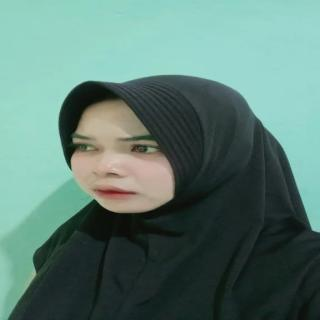Takut: (67, 91, 197, 220)
